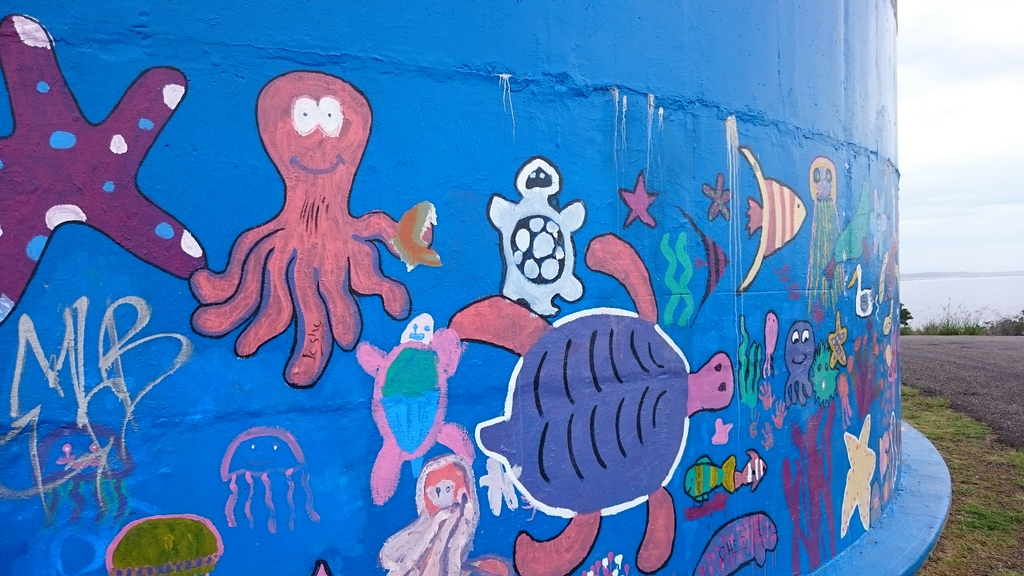Jellyfish: (208, 423, 325, 549)
